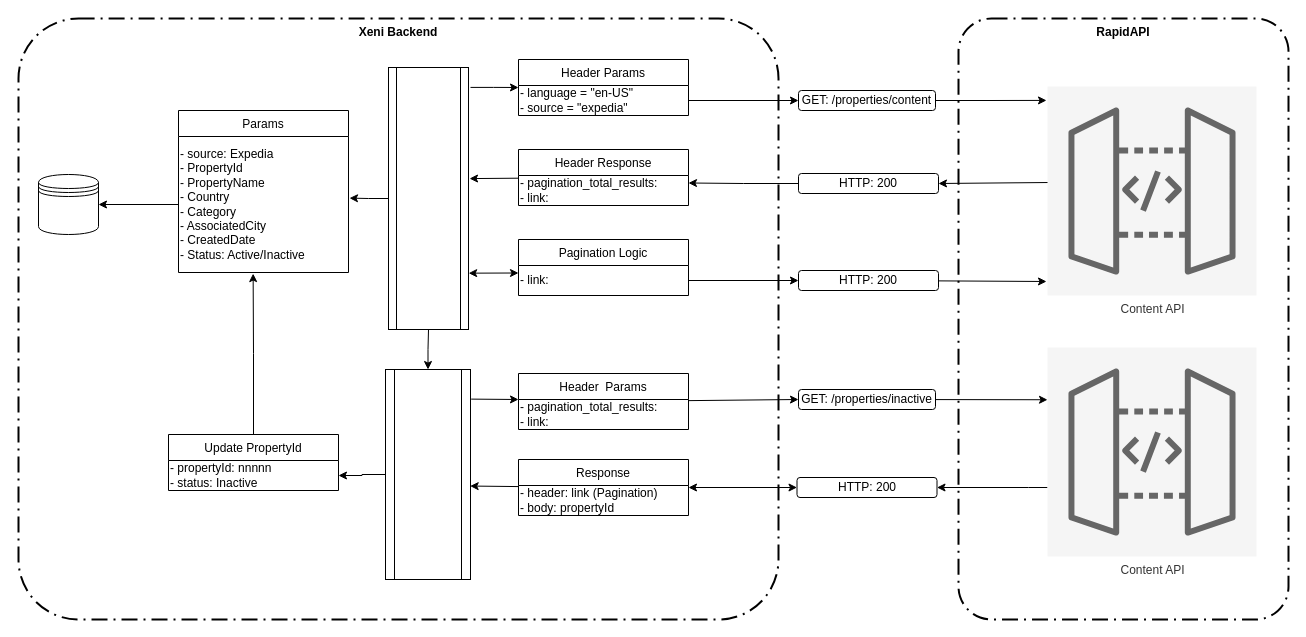
Some shapes in this 1306 by 637 pixel diagram are drawn without their labels. Here are the shapes that lost their labels. From the top down, the centre of each, then its label:
the point at 68,204: Expedia DB
the point at 428,198: CRON
the point at 427,474: Update Process
